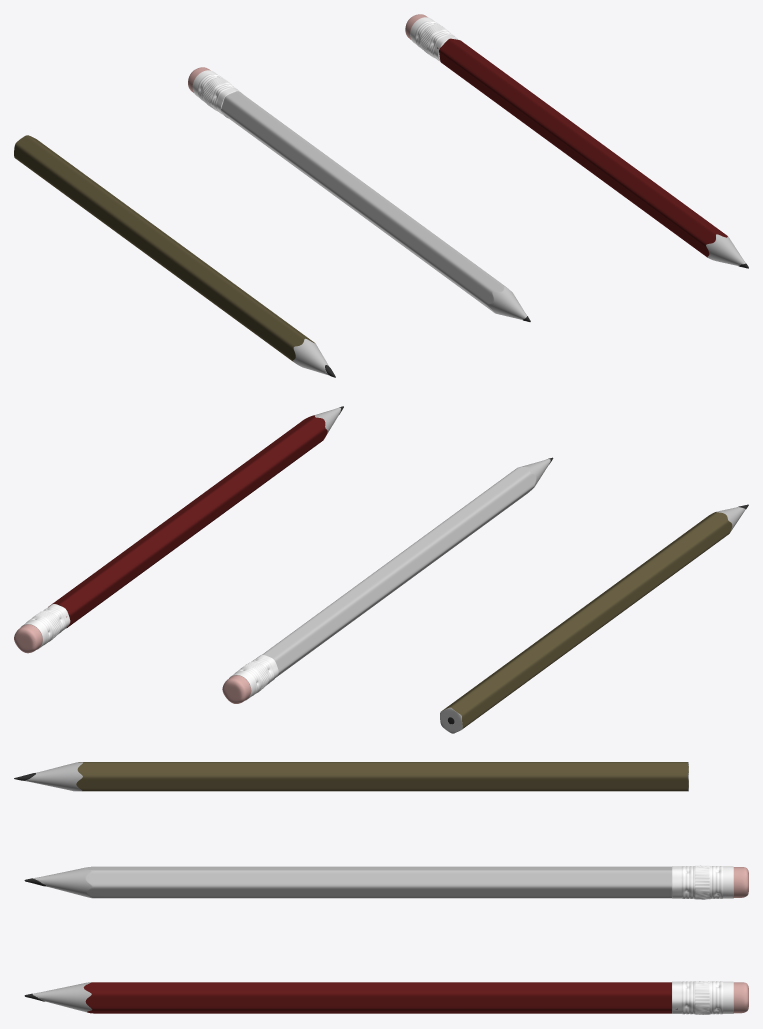
The picture shows the model from 3 angles, top to bottom: view 1: azimuth 30°, elevation 25°; view 2: azimuth 150°, elevation 25°; view 3: azimuth 270°, elevation 25°; orthographic projection. The views are drawn at different scales.
Visible parts, largest first — view 1: Body_1, Body, Body_2, Metal_Ring_1, Metal_Ring; view 2: Body, Body_1, Body_2, Metal_Ring, Metal_Ring_1, Cylinder, Cylinder_1; view 3: Body_2, Body_1, Body, Metal_Ring, Metal_Ring_1, Cylinder, Cylinder_1.
Boxes of the visible parts, x1=… form: Body_1: x1=437, y1=38, x2=745, y2=265; Body: x1=14, y1=135, x2=329, y2=375; Body_2: x1=221, y1=91, x2=526, y2=319; Metal_Ring_1: x1=192, y1=70, x2=242, y2=118; Metal_Ring: x1=410, y1=17, x2=458, y2=61; Body: x1=440, y1=507, x2=745, y2=733; Body_1: x1=48, y1=407, x2=340, y2=628; Body_2: x1=262, y1=459, x2=550, y2=677; Metal_Ring: x1=21, y1=604, x2=70, y2=649; Metal_Ring_1: x1=229, y1=655, x2=278, y2=700; Cylinder: x1=14, y1=624, x2=42, y2=653; Cylinder_1: x1=222, y1=675, x2=250, y2=703; Body_2: x1=33, y1=866, x2=671, y2=898; Body_1: x1=32, y1=982, x2=677, y2=1013; Body: x1=23, y1=762, x2=688, y2=791; Metal_Ring: x1=672, y1=981, x2=733, y2=1014; Metal_Ring_1: x1=672, y1=865, x2=733, y2=899; Cylinder: x1=733, y1=982, x2=748, y2=1013; Cylinder_1: x1=733, y1=867, x2=748, y2=897.
Size of what is drawn, in the model's own units: 13.52 by 0.8095 by 17.85.
